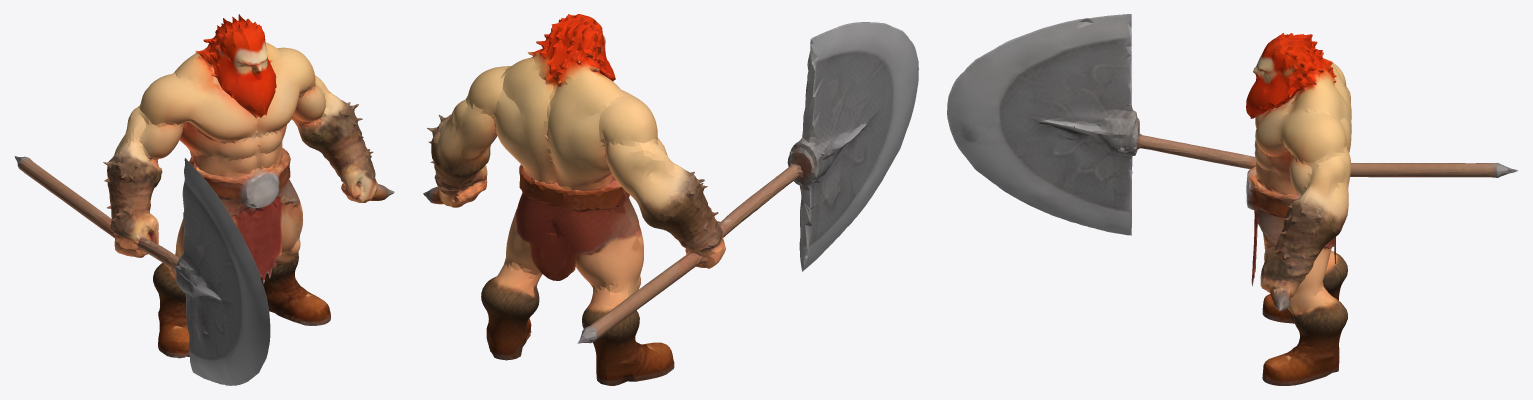
The model's file is berserker.glb.
3 renders of one model, left to right at view 1: azimuth 30°, elevation 25°; view 2: azimuth 150°, elevation 25°; view 3: azimuth 270°, elevation 25°, orthographic. The views are drawn at different scales.
Parts seen in each view (by area): view 1: berserker; view 2: berserker; view 3: berserker.
Boxes of the visible parts, x1=… form: berserker: x1=14, y1=14, x2=394, y2=385; berserker: x1=423, y1=14, x2=918, y2=385; berserker: x1=947, y1=14, x2=1518, y2=385.
Size of the model in its own units: 1.13 by 1.13 by 1.9.
Materials: 1 (1 with a texture image).
